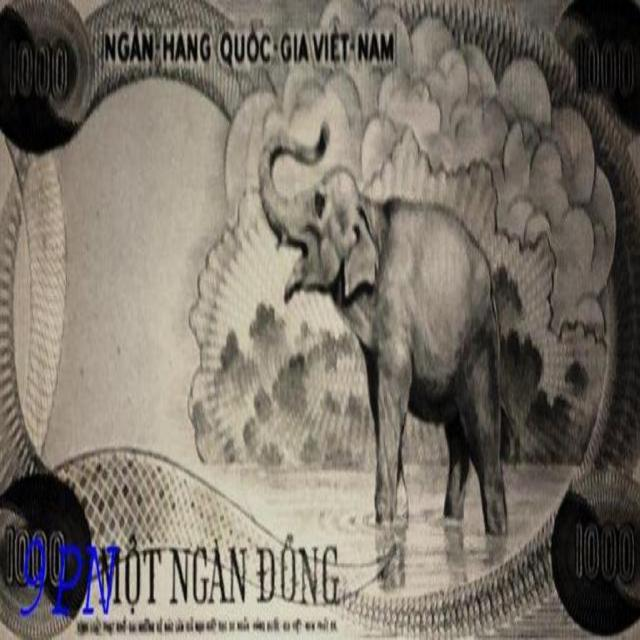elephant: (207, 127, 520, 528)
